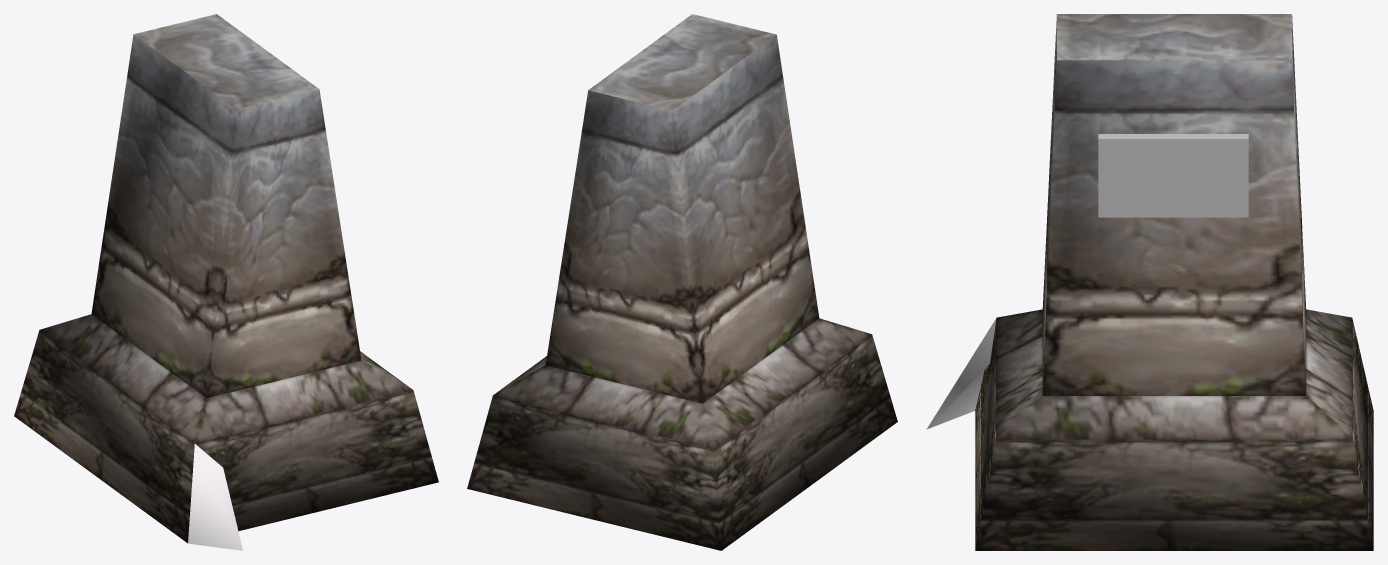
Rendered from tombstonemonument02.obj.
3 views of the same model, side by side, from view 1: azimuth 30°, elevation 25°; view 2: azimuth 150°, elevation 25°; view 3: azimuth 270°, elevation 25° (orthographic). The views are drawn at different scales.
Visible parts, largest first — view 1: Geoset0, Geoset1, Geoset2; view 2: Geoset0, Geoset1; view 3: Geoset0, Geoset1, Geoset3, Geoset2.
Part boxes in pixels (box(x1,y1,x2,y2)): Geoset0: box(91, 14, 361, 398); Geoset1: box(14, 314, 438, 543); Geoset2: box(188, 444, 242, 550); Geoset0: box(545, 14, 819, 403); Geoset1: box(467, 318, 897, 550); Geoset0: box(1042, 14, 1306, 395); Geoset1: box(975, 309, 1373, 550); Geoset3: box(1098, 134, 1248, 217); Geoset2: box(926, 318, 996, 429).
Size of the model in its own units: 2.1 by 3.1 by 2.83.
